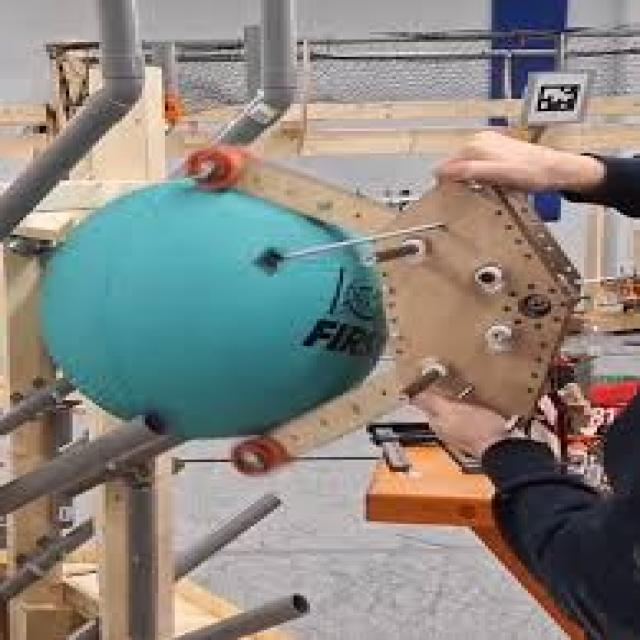algae: (43, 178, 389, 442)
